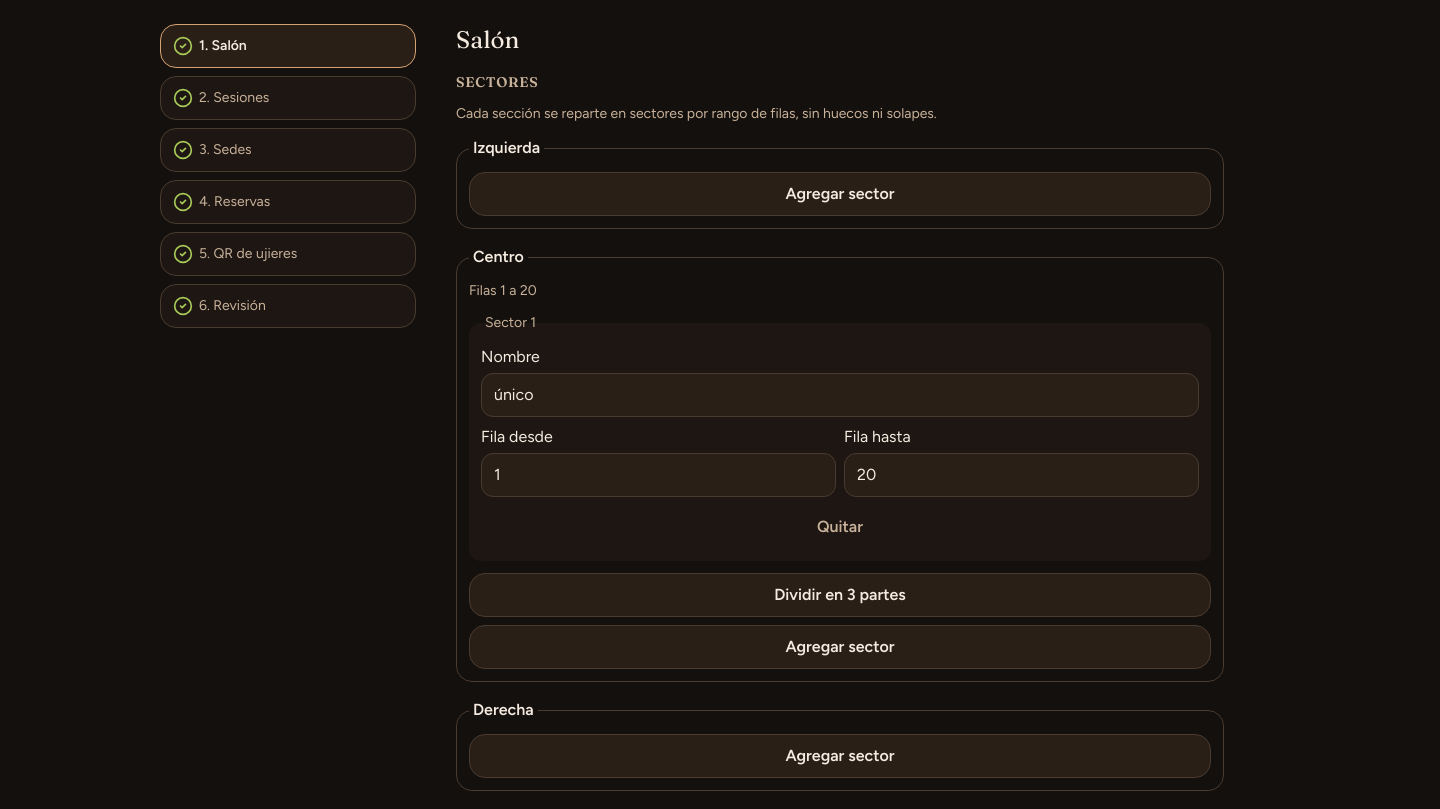
Test: SalonPaso: sectores › vista previa de sectores (sin guardar) › al achicar un rango marca en advertencia las filas que quedan sin sector
Check: the text "sin sector" is not shown
Replace the text in the number field labelled "Fila hasta" with "18" at (1022, 475), box [844,453,1199,497]
(page scrolled)
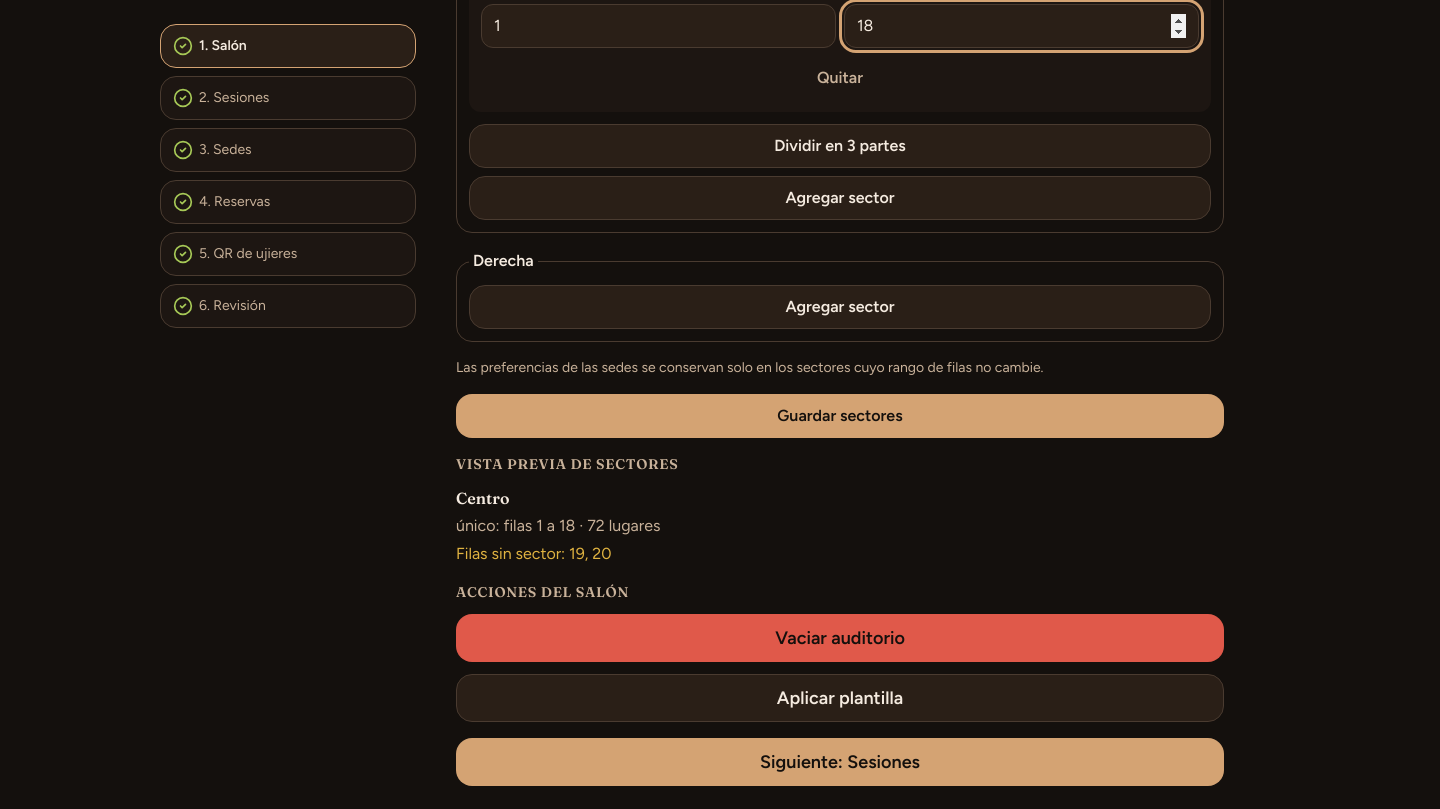
Check: the list item "único: filas 1 a 18 · 72 lugares" is shown, box [456,516,660,535]
Check: the list item "Filas sin sector: 19, 20" is shown, box [456,544,612,563]
